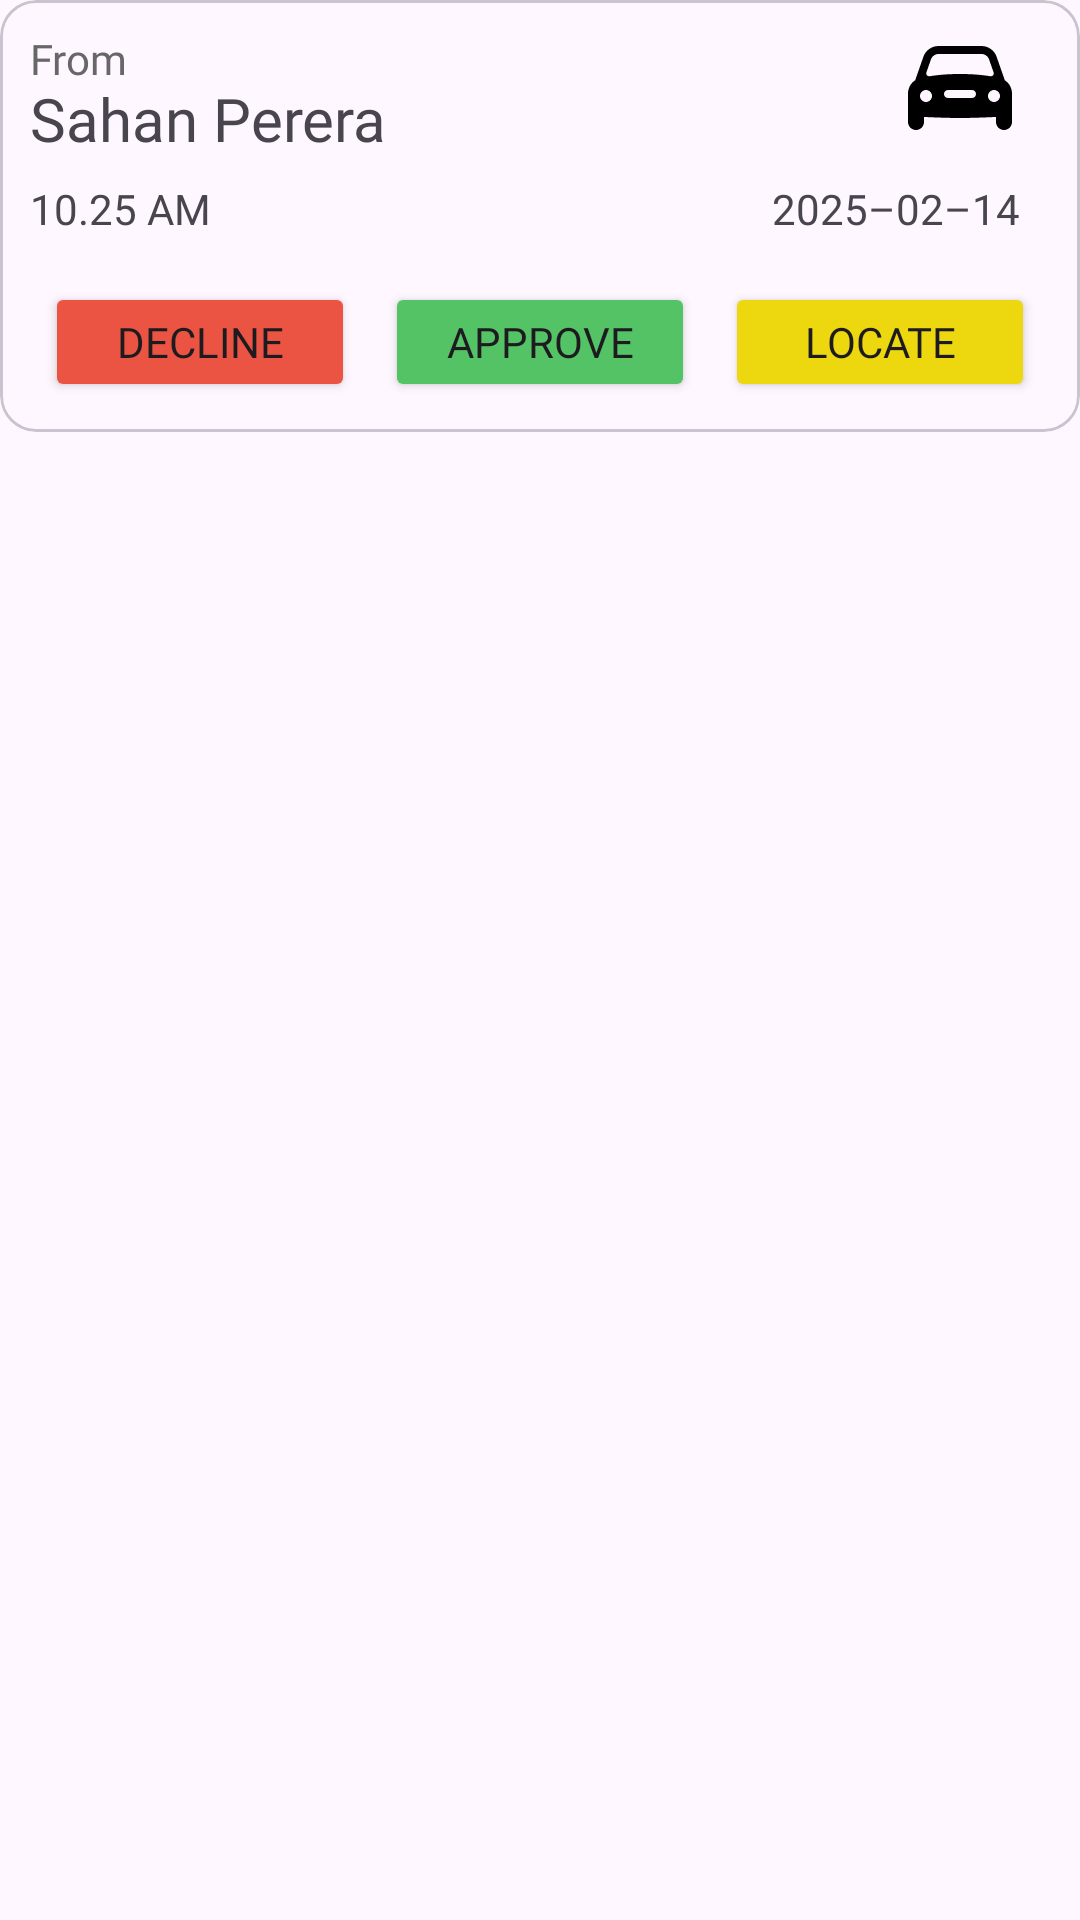

Named icons in this screenshot (1080×1920) and their bounding boxes, (x1, y1, x2, y2):
car: (908, 46, 1012, 130)
